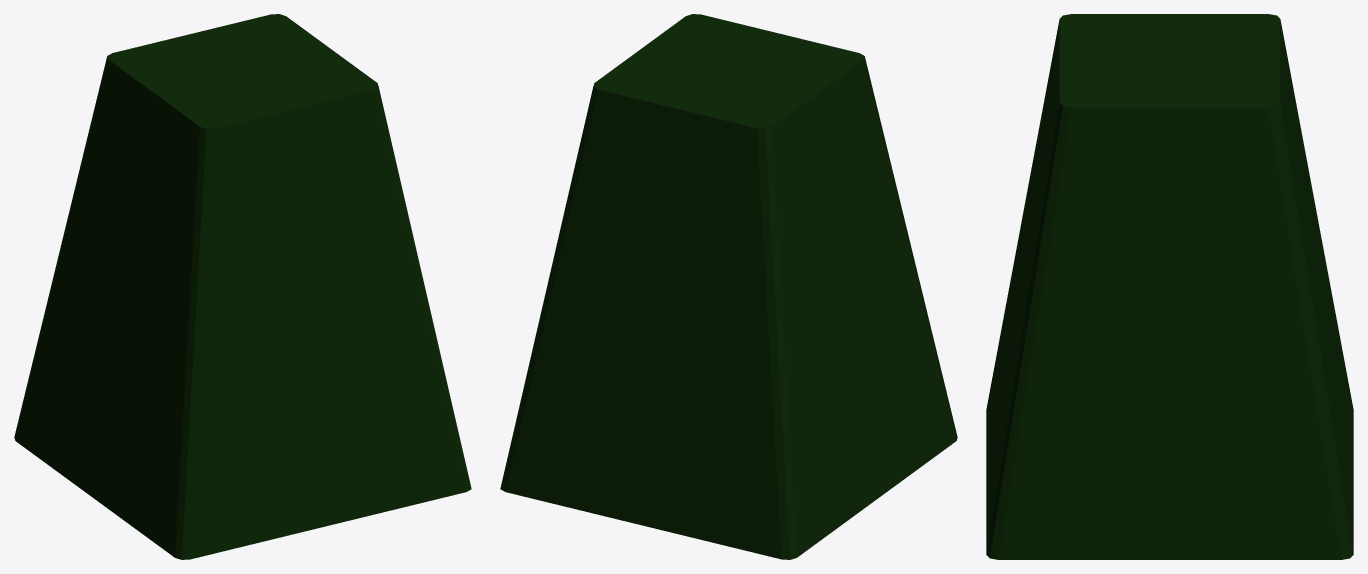
The model's file is square-base-1.fbx.
3 views of the same model, side by side, from view 1: azimuth 30°, elevation 25°; view 2: azimuth 150°, elevation 25°; view 3: azimuth 270°, elevation 25° (orthographic). The views are drawn at different scales.
Parts seen in each view (by area): view 1: square-base-1; view 2: square-base-1; view 3: square-base-1.
Boxes of the visible parts, bbox=[...] form: square-base-1: bbox=[14, 14, 471, 559]; square-base-1: bbox=[500, 14, 957, 559]; square-base-1: bbox=[986, 14, 1353, 559].
Size of the model in its own units: 2.64 by 3.35 by 2.64.
